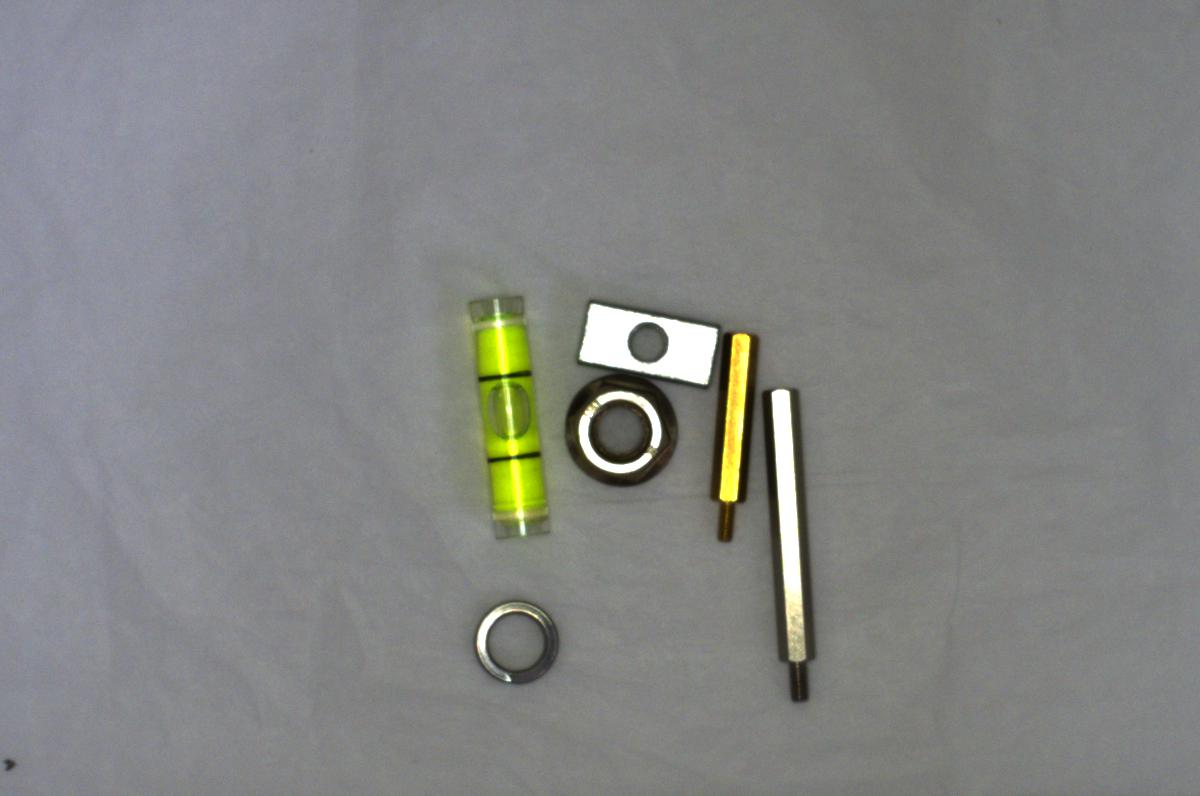Flange nut: (551, 378, 681, 489)
Hexagon pillar: (707, 322, 753, 540)
Hexagonal steel column: (759, 380, 820, 705)
Horizontal bubble: (461, 286, 552, 548)
Rectangular nut: (564, 295, 719, 388)
Spring washer: (466, 590, 561, 696)
